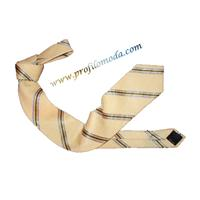tie: (14, 38, 186, 152)
